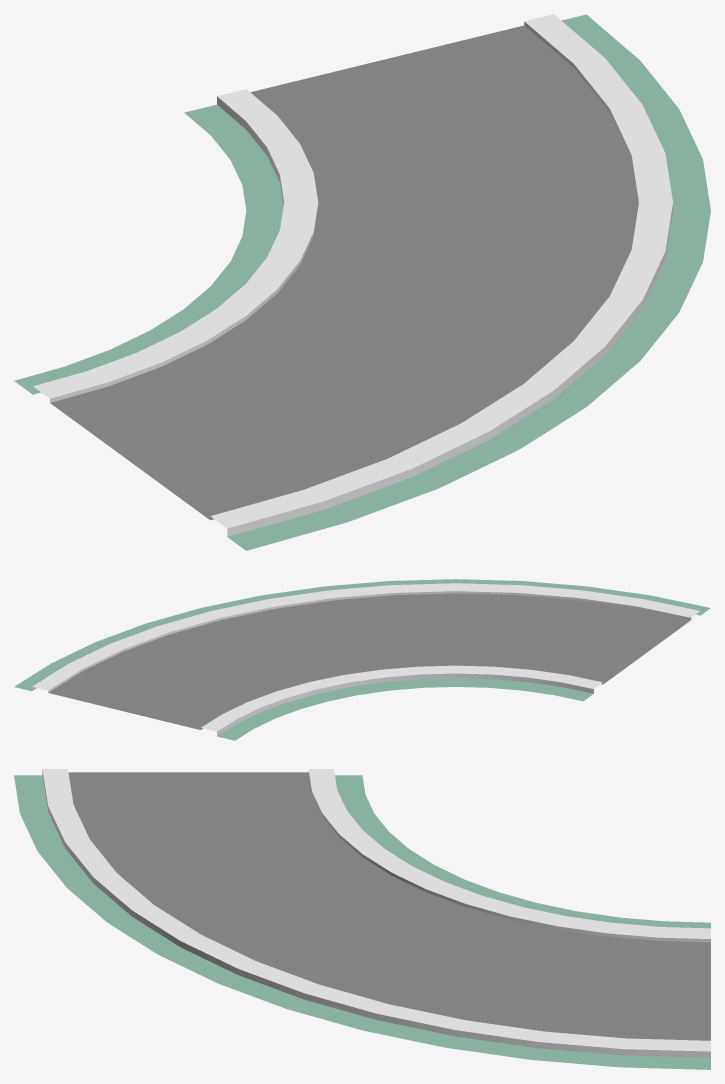
Rendered from roadCornerLarge.glb.
3 views of the same model, one above another, from view 1: azimuth 30°, elevation 25°; view 2: azimuth 150°, elevation 25°; view 3: azimuth 270°, elevation 25° (orthographic). The views are drawn at different scales.
Parts seen in each view (by area): view 1: roadCornerLarge; view 2: roadCornerLarge; view 3: roadCornerLarge.
Boxes of the visible parts, left/top/right/bottom form: roadCornerLarge: left=14, top=14, right=710, bottom=550; roadCornerLarge: left=14, top=579, right=710, bottom=740; roadCornerLarge: left=14, top=769, right=710, bottom=1069.
Bounding box in the file's own units: 2 × 0.02 × 2.
